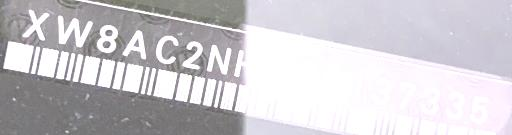letter: (52, 13, 94, 50), (18, 6, 52, 44), (284, 57, 320, 92), (232, 47, 262, 82), (120, 27, 150, 60), (204, 42, 232, 77), (152, 33, 180, 66), (318, 63, 344, 98), (392, 78, 420, 110), (94, 21, 118, 54), (180, 39, 204, 72), (260, 54, 284, 85), (370, 75, 394, 106), (418, 84, 442, 115), (442, 90, 466, 121), (466, 94, 490, 124), (346, 72, 366, 101)
